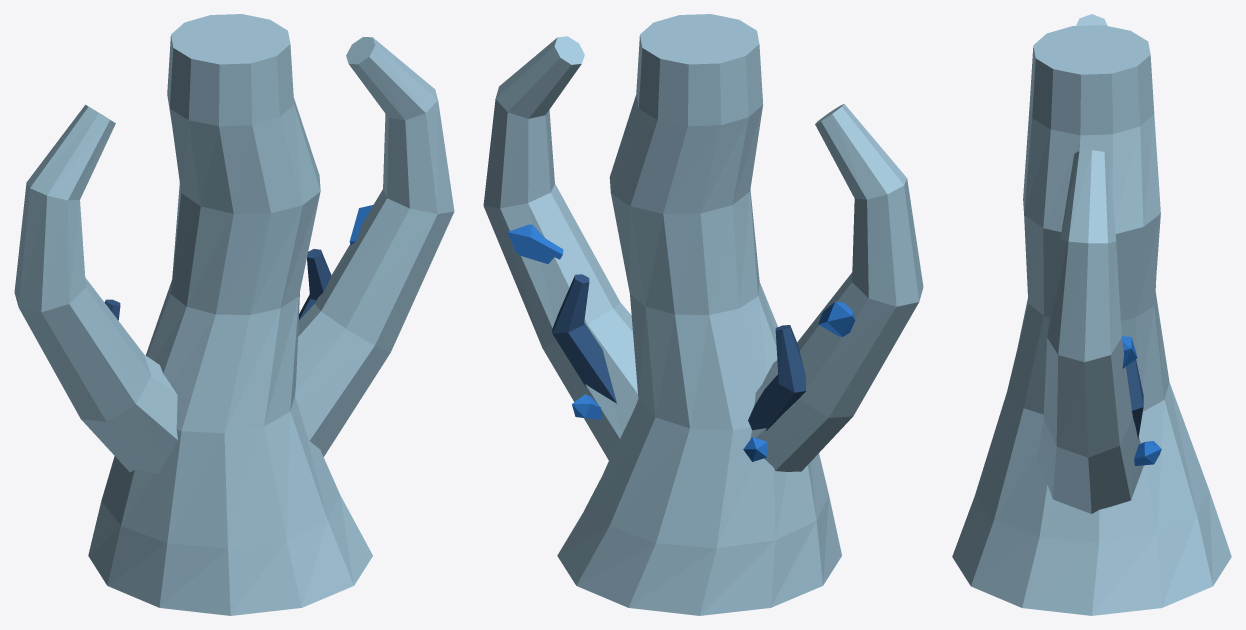
File: SapphireBirchTrunk.obj
The picture shows the model from 3 angles, left to right: view 1: azimuth 30°, elevation 25°; view 2: azimuth 150°, elevation 25°; view 3: azimuth 270°, elevation 25°; orthographic projection.
Visible parts, largest first — view 1: SapphireBirchTrunk_SapphireBirchBark, SapphireBirchTrunk_SapphireBarkBands; view 2: SapphireBirchTrunk_SapphireBirchBark, SapphireBirchTrunk_SapphireBarkBands, SapphireBirchTrunk_SapphireCrystals; view 3: SapphireBirchTrunk_SapphireBirchBark, SapphireBirchTrunk_SapphireCrystals, SapphireBirchTrunk_SapphireBarkBands.
Part boxes in pixels (x1,y1,x2,y2): SapphireBirchTrunk_SapphireBirchBark: (14, 14, 454, 615); SapphireBirchTrunk_SapphireBarkBands: (104, 249, 331, 320); SapphireBirchTrunk_SapphireBirchBark: (483, 14, 923, 615); SapphireBirchTrunk_SapphireBarkBands: (552, 274, 806, 430); SapphireBirchTrunk_SapphireCrystals: (507, 224, 855, 461); SapphireBirchTrunk_SapphireBirchBark: (952, 14, 1231, 615); SapphireBirchTrunk_SapphireCrystals: (1121, 336, 1161, 465); SapphireBirchTrunk_SapphireBarkBands: (1126, 359, 1143, 438).
Size of the model in its own units: 2.62 by 3 by 1.5.
